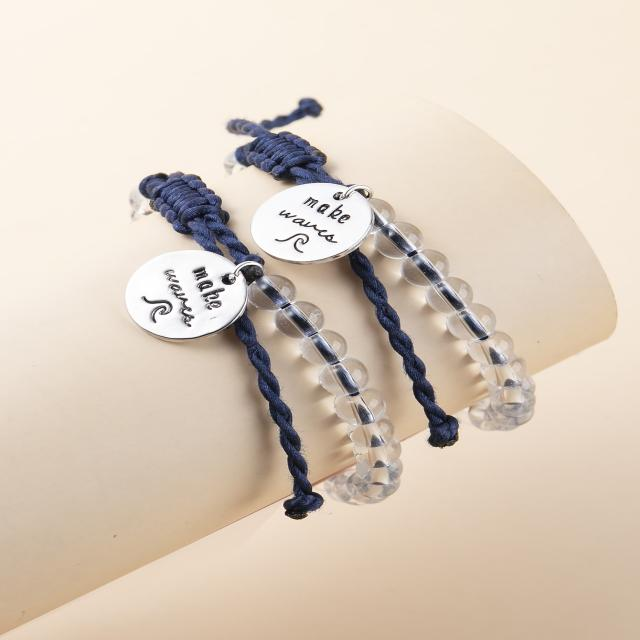bracelet: (85, 44, 596, 550)
